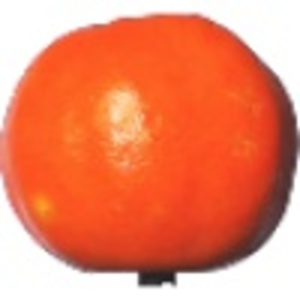tangerina: (1, 1, 300, 286)
